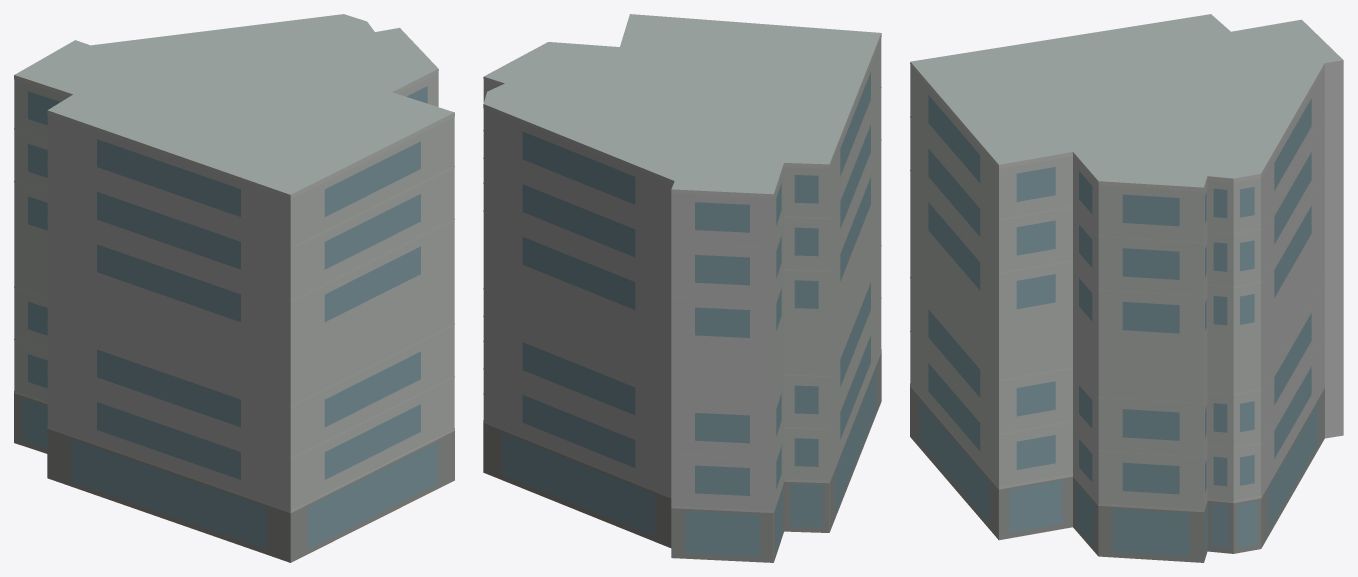
Rendered from survey-upis-32683109.glb.
The picture shows the model from 3 angles, left to right: view 1: azimuth 30°, elevation 25°; view 2: azimuth 150°, elevation 25°; view 3: azimuth 270°, elevation 25°; orthographic projection.
Parts seen in each view (by area): view 1: survey-upis-32683109.tmp; view 2: survey-upis-32683109.tmp; view 3: survey-upis-32683109.tmp.
Part boxes in pixels (x1=…): survey-upis-32683109.tmp: x1=14, y1=14, x2=454, y2=562; survey-upis-32683109.tmp: x1=483, y1=14, x2=881, y2=562; survey-upis-32683109.tmp: x1=910, y1=14, x2=1343, y2=562.
Bounding box in the file's own units: 20.86 × 21 × 22.01.
